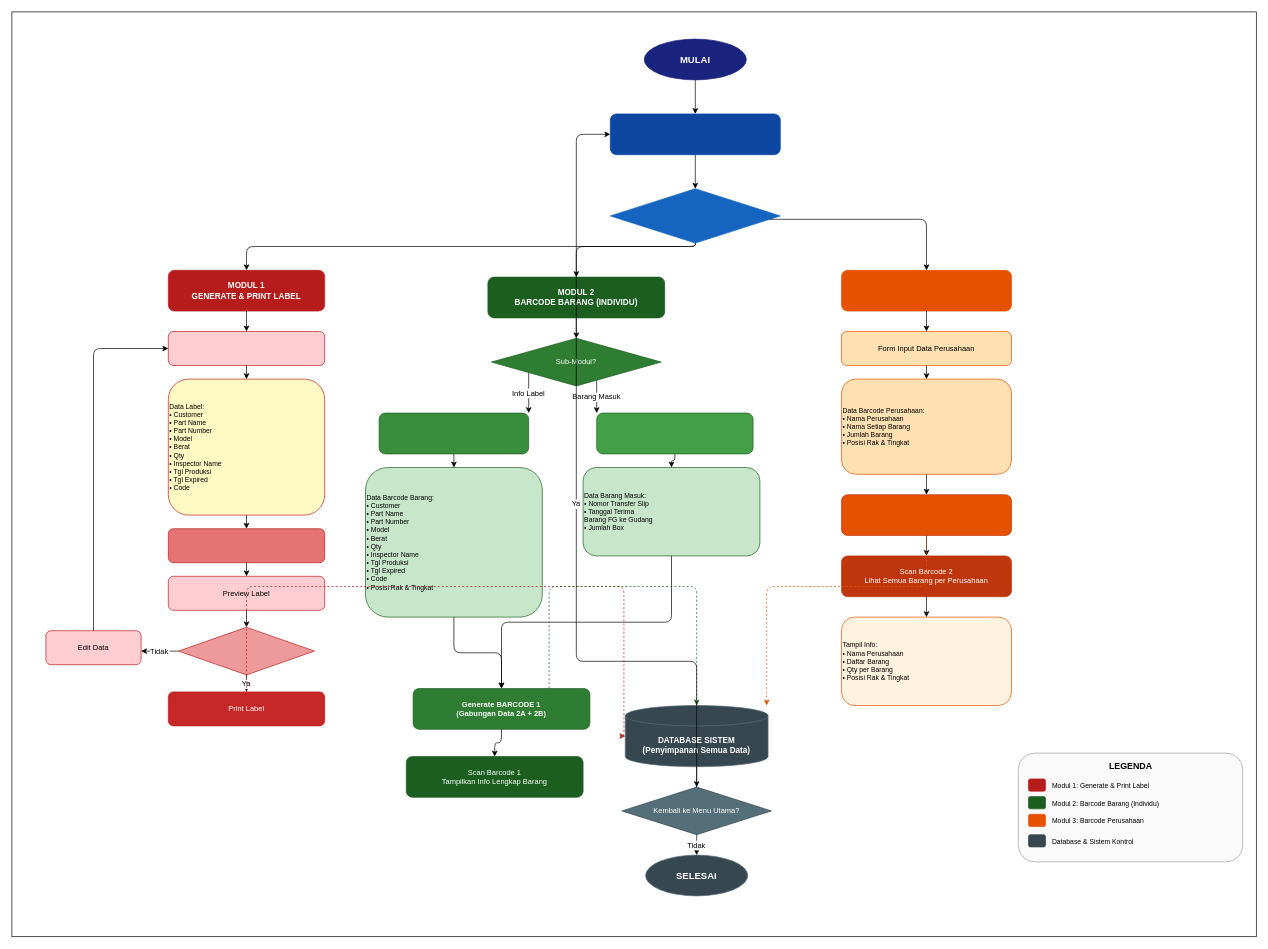
Image size: 1268x949. Some labels were removed from this diagram. Here are the shapes that lost their labels. From the top down, the centre of each, then its label:
At point 695,134: "MENU UTAMA APLIKASI".
At point 695,215: "Pilih Modul?".
At point 926,290: "MODUL 3 BARCODE PERUSAHAAN".
At point 246,348: "Form Input Data Label".
At point 453,433: "2A: Generate Barcode Info Label Barang".
At point 674,433: "2B: Input Barang Masuk (Checker / Finishing)".
At point 926,515: "Generate BARCODE 2 (Barcode Perusahaan)".
At point 246,545: "Generate Barcode + Label".
At point 246,651: "Print OK?".
